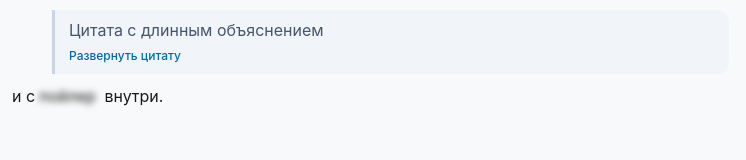
Test: 2026 Entities, Code Highlighting, Link Interception & DOM Safety › supports collapsed expandable blockquote and clickable spoiler
The image size is (746, 160).
Click the button "Развернуть цитату": (125, 56) top-left (69, 48), bottom-right (181, 65)
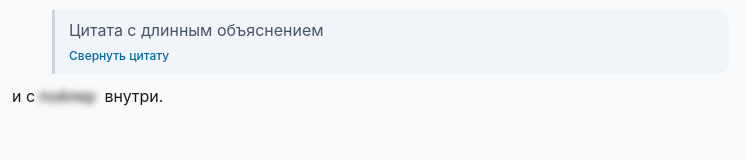
Check: the element showing "Цитата с длинным объяснением Свернуть цитату" has attribute data-collapsed="false", box top-left (52, 10), bottom-right (729, 74)
Click the button with aria-label "Показать скрытый текст": (70, 96) top-left (35, 86), bottom-right (104, 106)
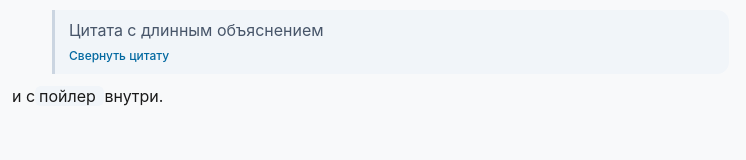
Check: the button named "Показать скрытый текст" has attribute data-revealed="true", box top-left (35, 86), bottom-right (104, 106)
